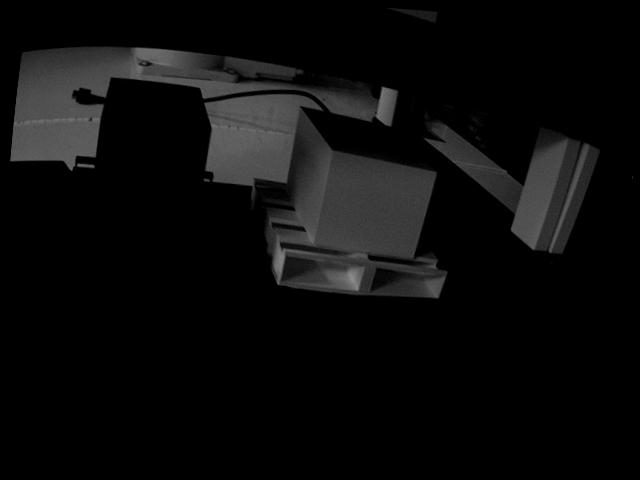black pallet: (66, 73, 227, 252)
white pallet: (248, 103, 449, 306)
